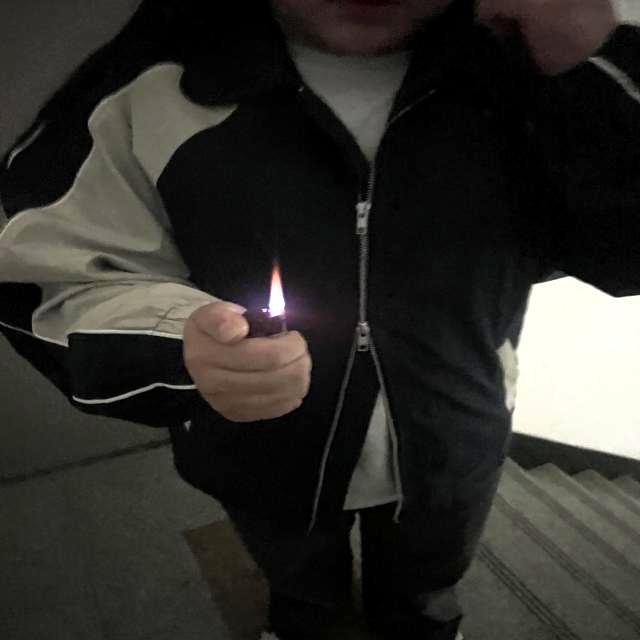fire: (266, 262, 286, 316)
